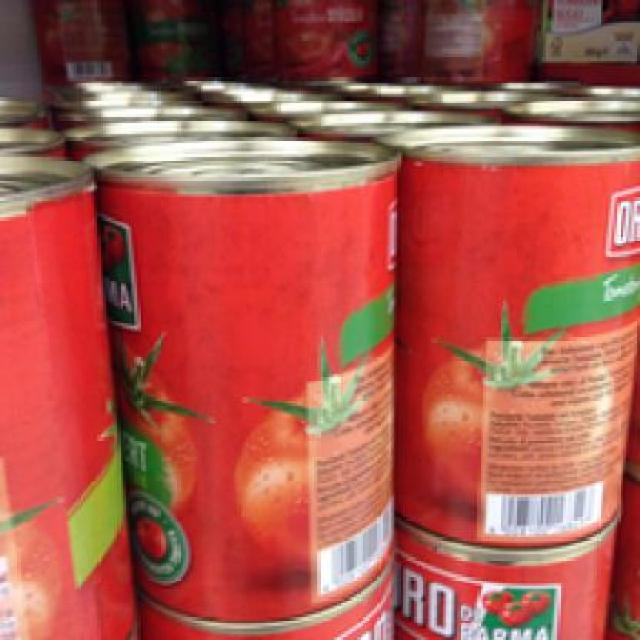Tomato Sauce: (86, 134, 394, 620), (388, 120, 638, 549)
